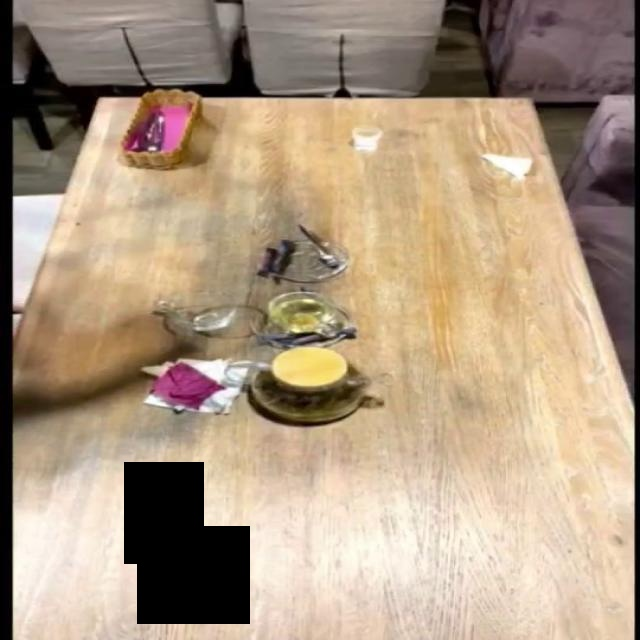tea: (248, 345, 373, 424)
